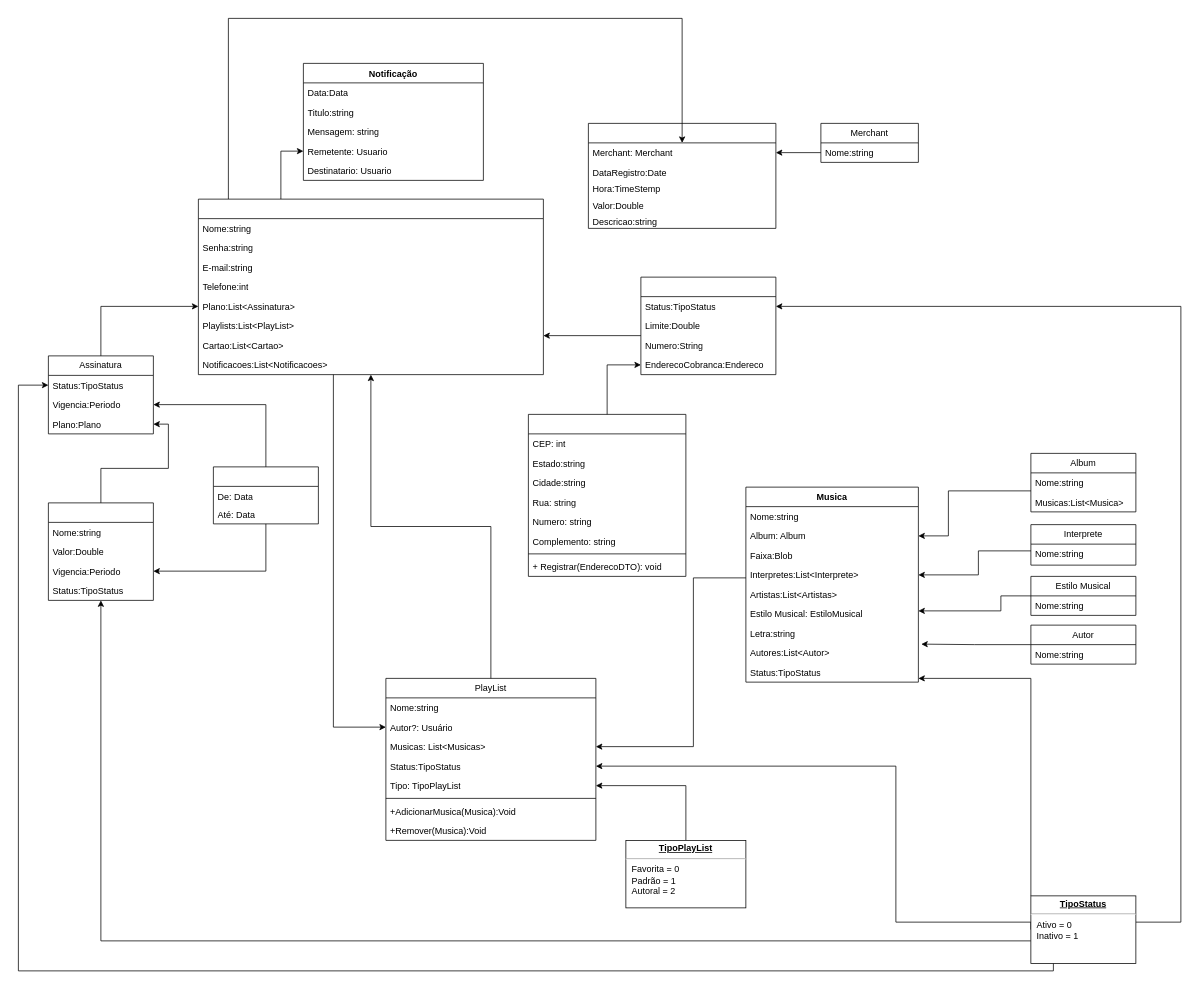
The diagram is 1200 pixels wide and 990 high, and some of its shapes have lost their labels. The box of each missing label's shape, as (x1, y1, x2, y2) in pixels:
Cartao: (640, 276, 776, 375)
Endereço: (528, 414, 686, 576)
Periodo: (213, 466, 318, 524)
Plano: (48, 502, 153, 600)
Transação: (588, 123, 776, 228)
Usuario: (198, 198, 543, 375)
